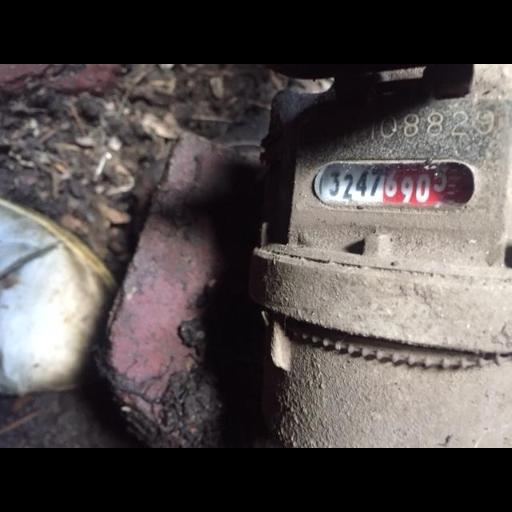0: (413, 163, 433, 205)
2: (340, 165, 357, 205)
3: (323, 163, 343, 203)
4: (354, 165, 370, 205)
5: (430, 162, 454, 206)
6: (382, 165, 400, 204)
7: (368, 164, 386, 205)
9: (398, 162, 416, 206)
border_water_meter_number: (310, 158, 478, 211)
